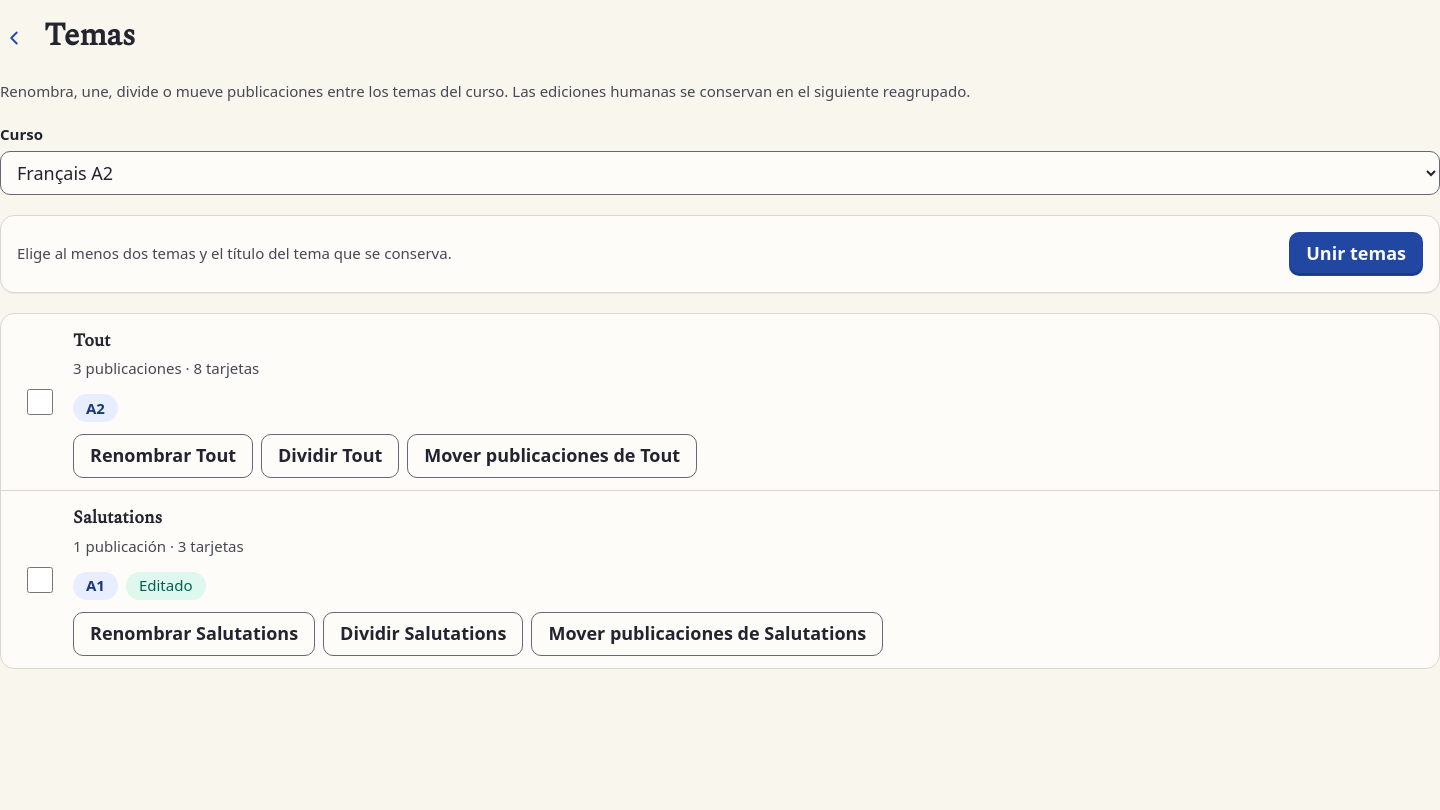
Test case: dividir exige dejar una publicación en el tema original
Later steps or results of the test are not shown.
Click the button "Dividir Tout" at (330, 456), box [261,434,399,478]
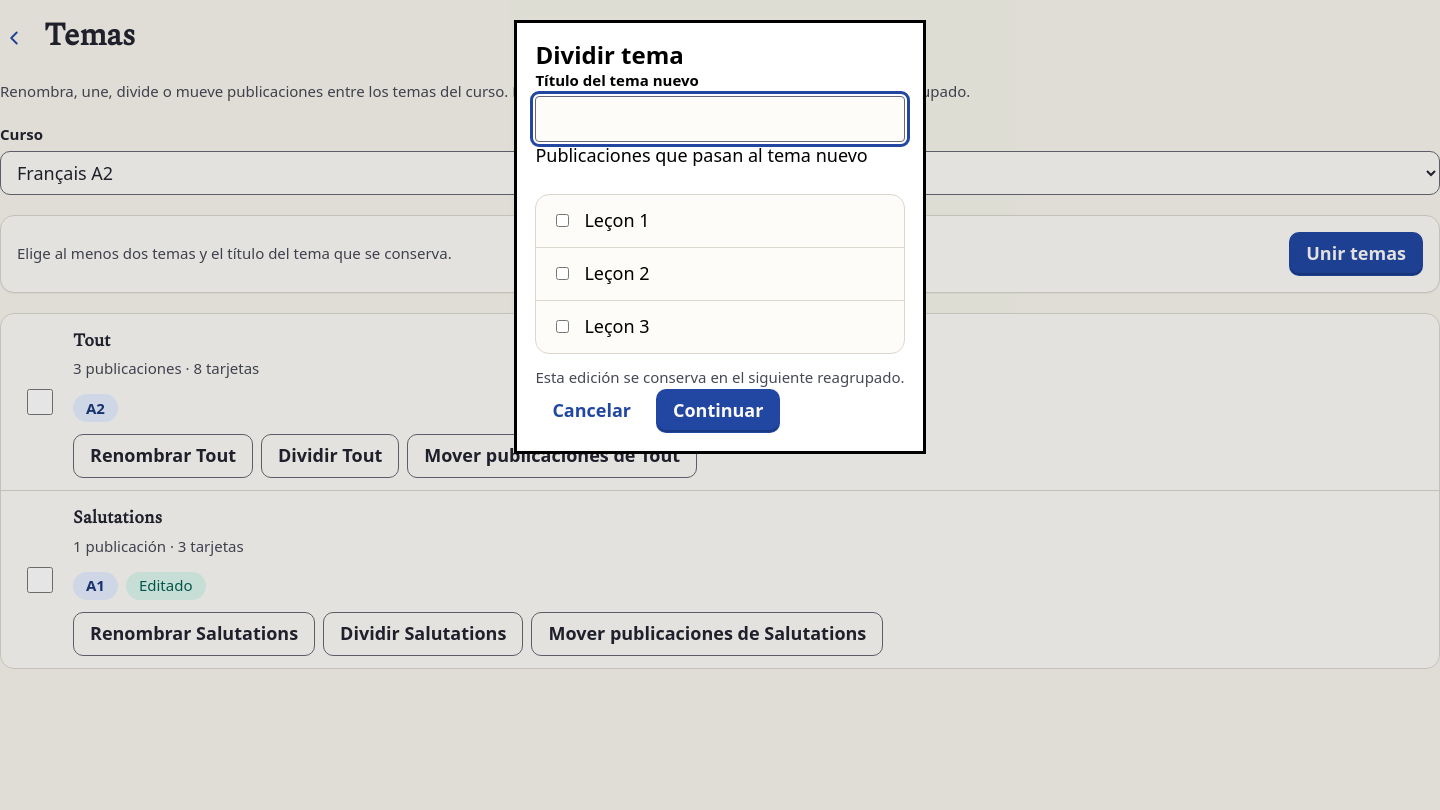
Click the checkbox named "Incluir Leçon 1" at (563, 221), box [556,214,569,227]
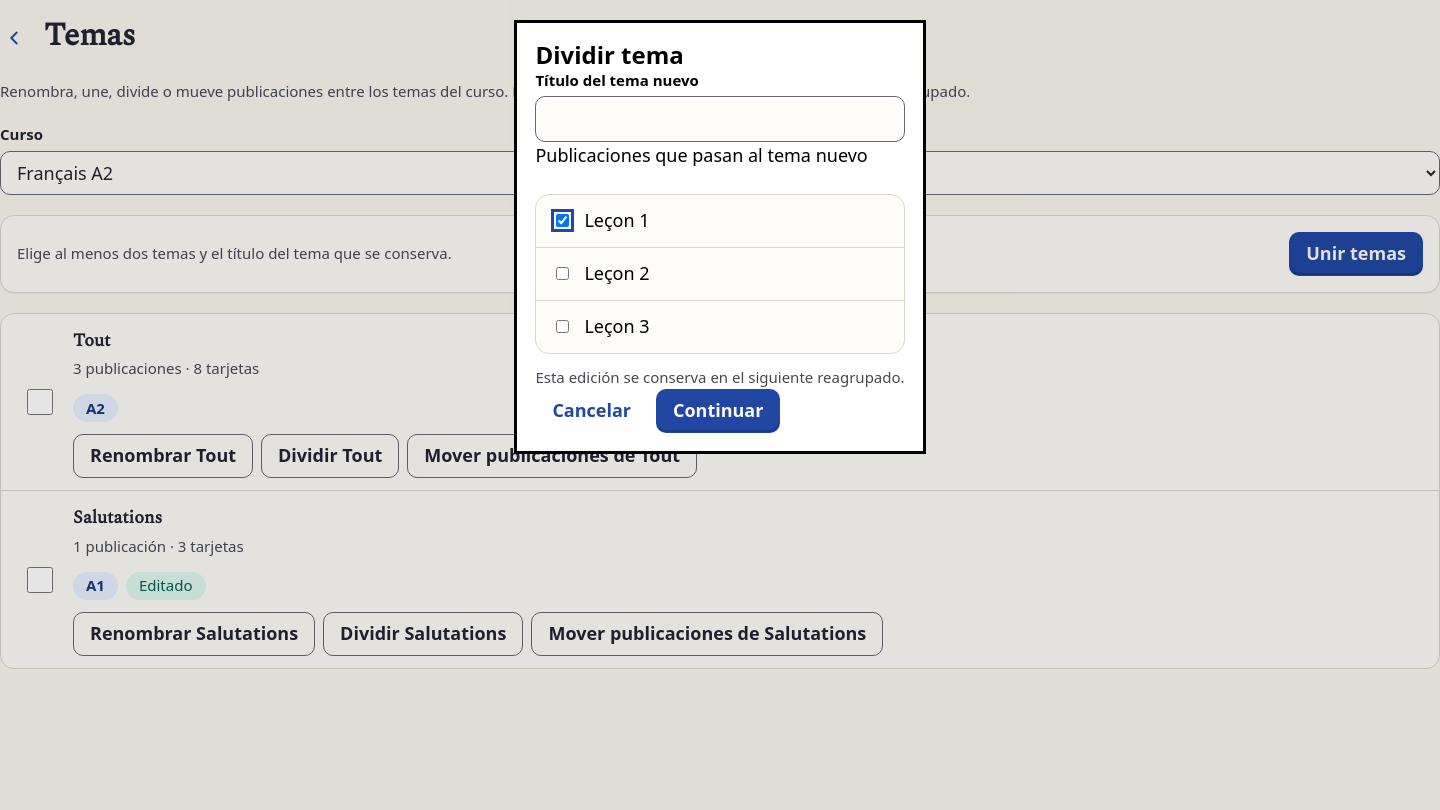
Click the checkbox named "Incluir Leçon 2" at (563, 274), box [556,267,569,280]
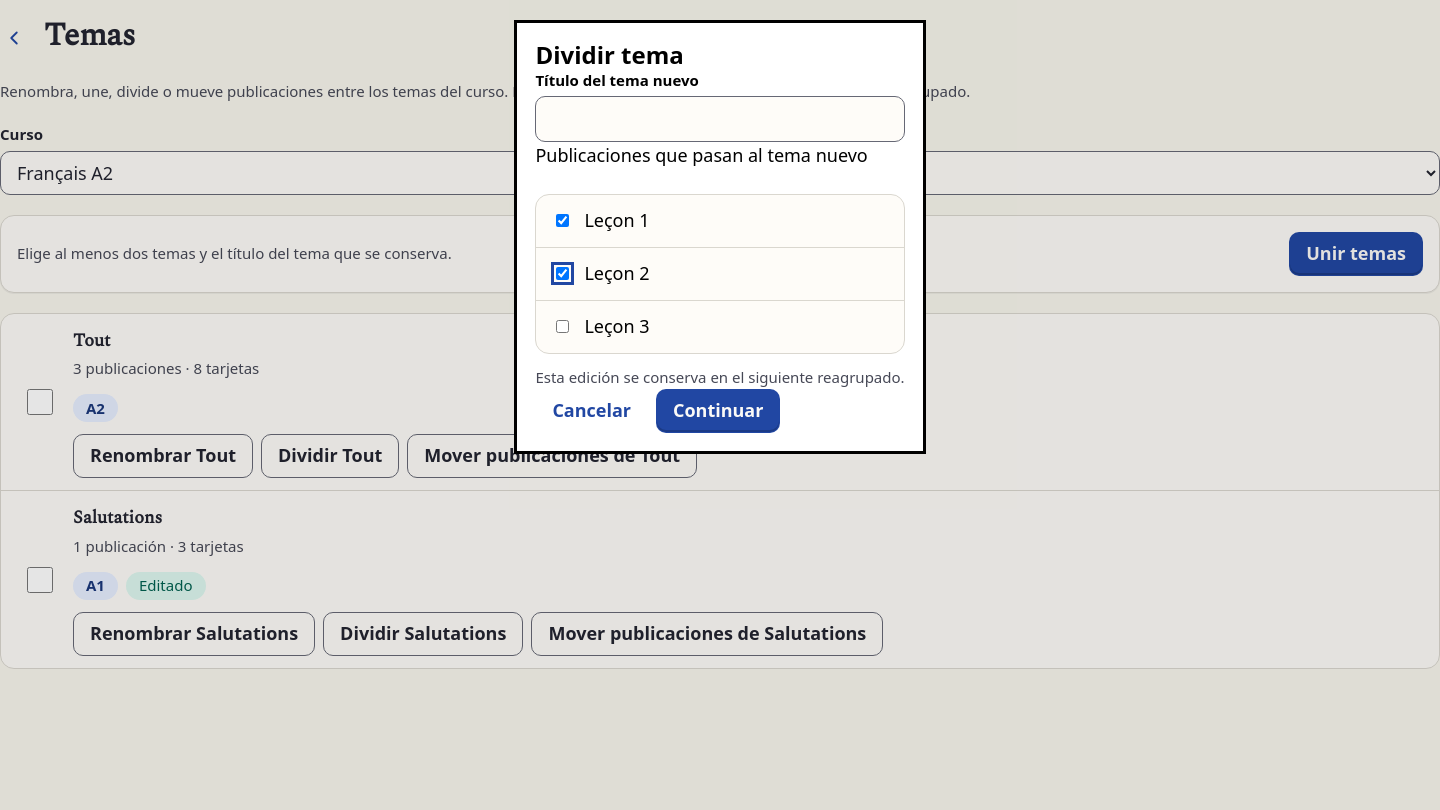
Click the checkbox named "Incluir Leçon 3" at (563, 327), box [556,320,569,333]
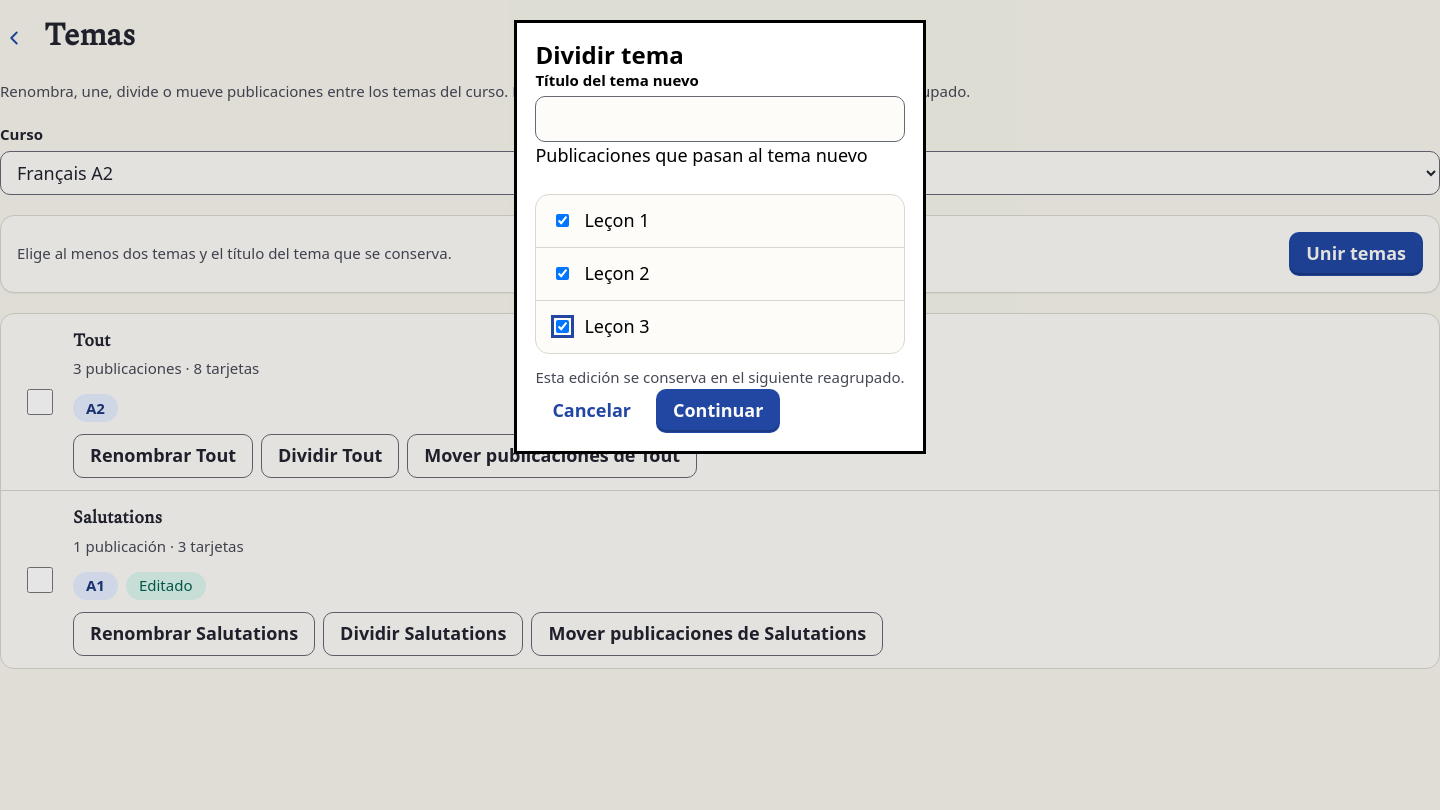
Type "Nombres" into the field labelled "Título del tema nuevo" at (720, 119), box [535,96,905,142]
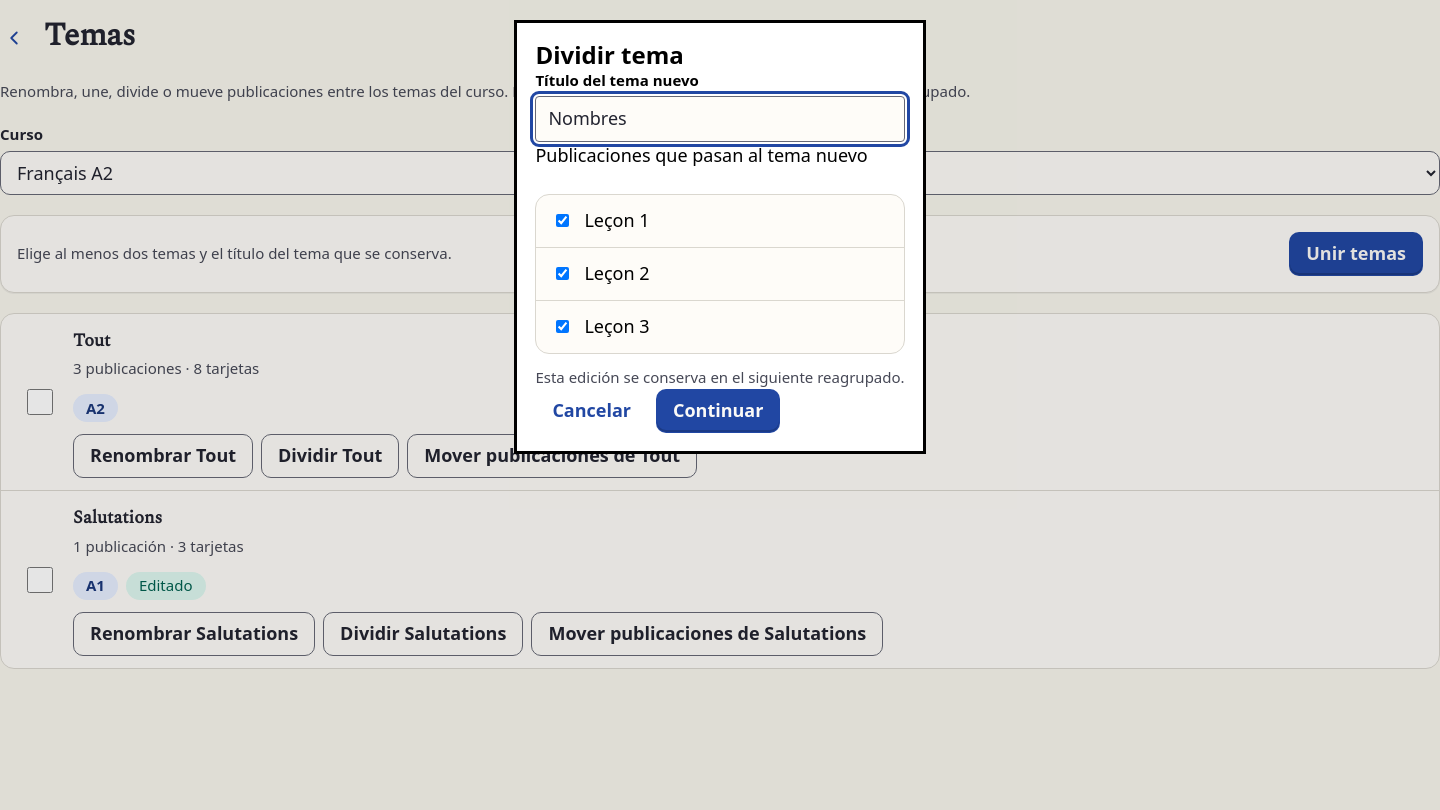
Click the button "Continuar" at (718, 411), box [656,389,780,433]
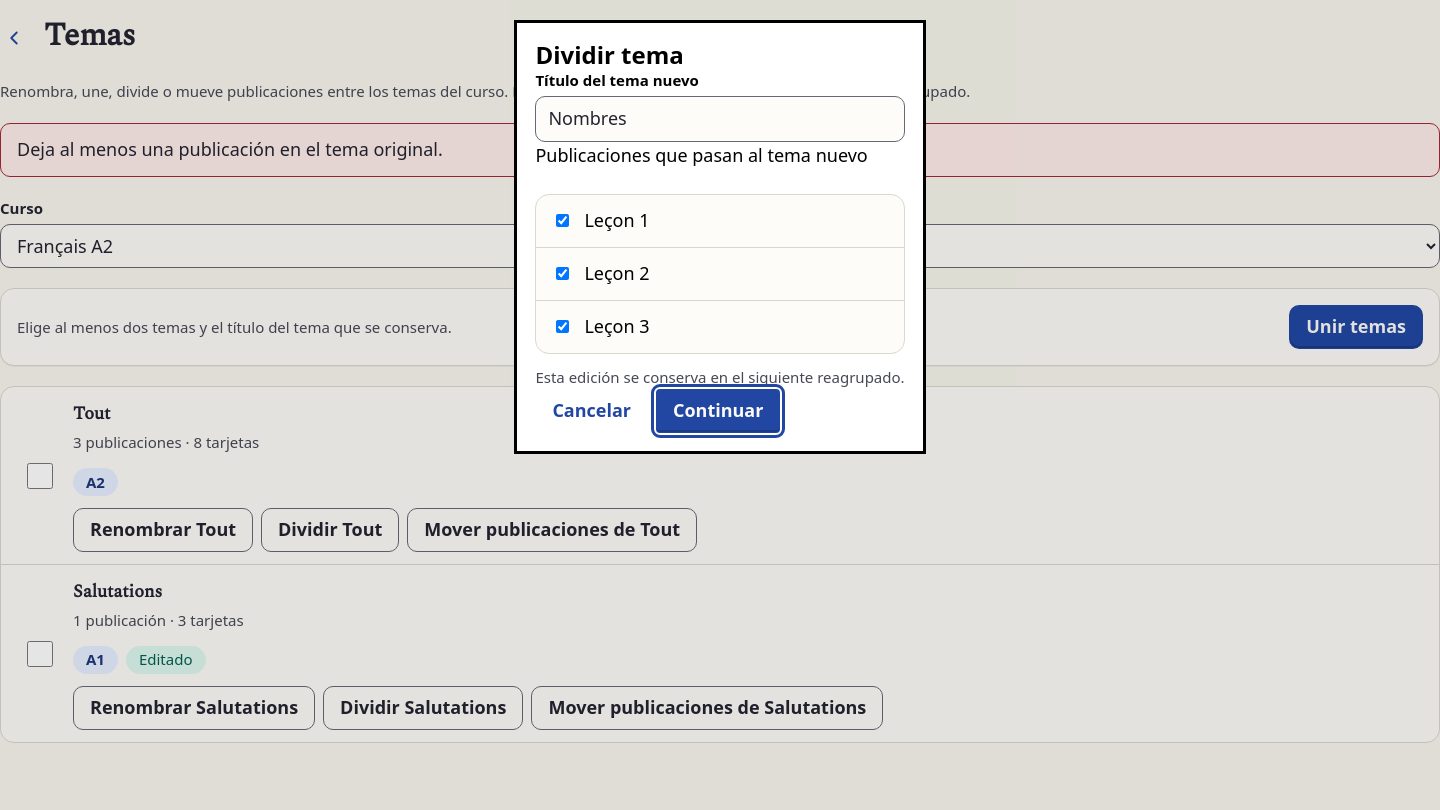
Result: the message shows "Deja al menos una publicación en el tema original" at [17,137,443,161]
